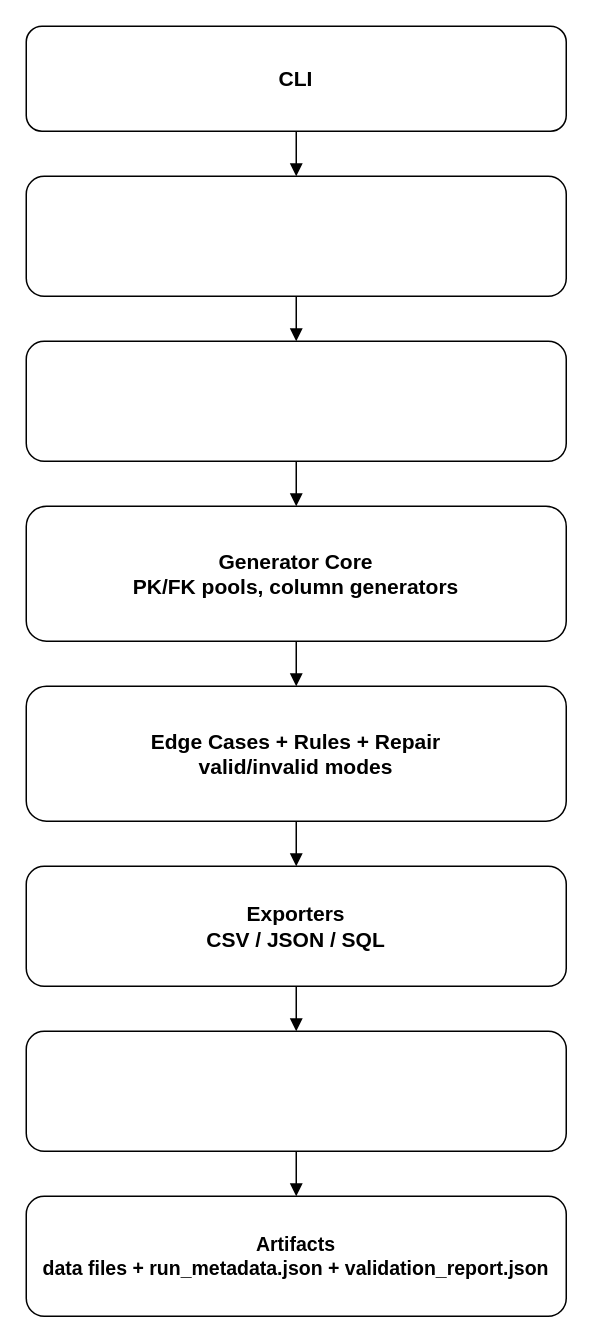
Some shapes in this 593 by 1343 pixel diagram are drawn without their labels. Here are the shapes that lost their labels. From the top down, the centre of each, then its label:
At (x=295, y=235): "Config Loader + DSL YAML / JSON".
At (x=295, y=400): "Planner DAG + topo sort".
At (x=295, y=1090): "Validator + Reports constraints, FK integrity".
